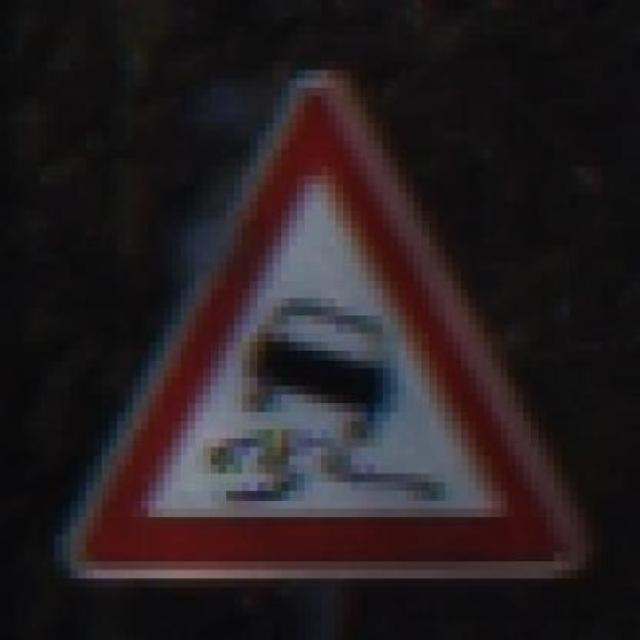Slippery Road Ahead: (55, 70, 593, 596)
